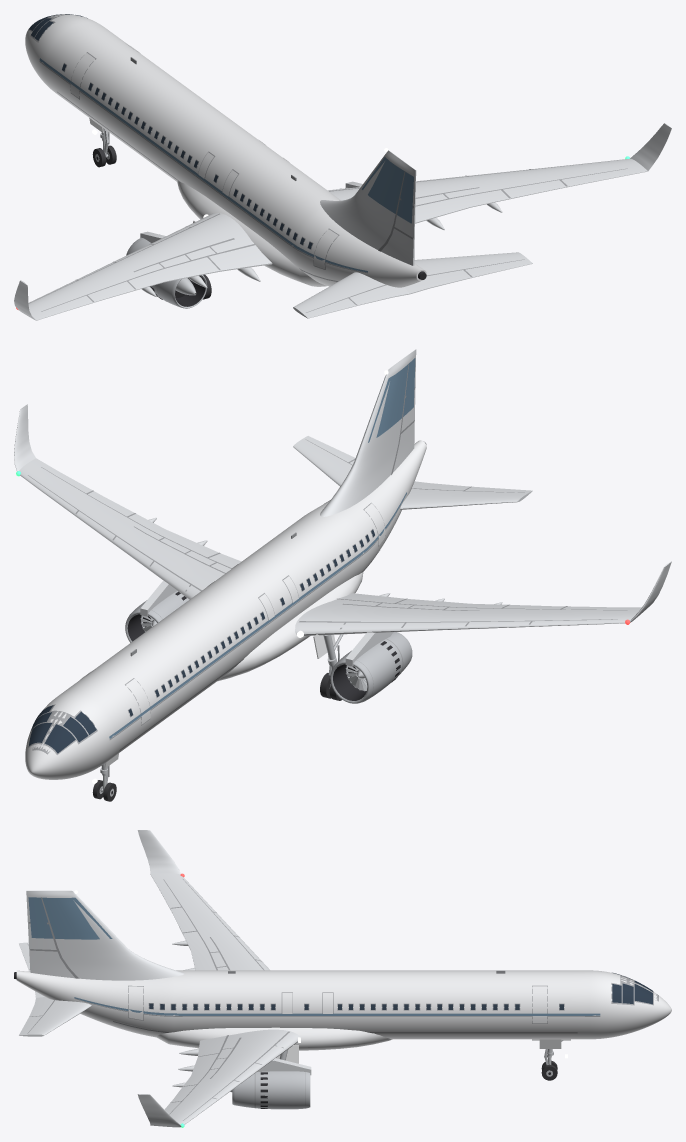
Rendered from airliner.glb.
The picture shows the model from 3 angles, top to bottom: view 1: azimuth 30°, elevation 25°; view 2: azimuth 150°, elevation 25°; view 3: azimuth 270°, elevation 25°; orthographic projection. The views are drawn at different scales.
Visible parts, largest first — view 1: Aircraft; view 2: Aircraft; view 3: Aircraft.
Boxes of the visible parts, x1,y1,x2,y2 form: Aircraft: (14,14,671,320); Aircraft: (14,349,671,801); Aircraft: (14,830,671,1127).
Size of the model in its own units: 35.84 by 11.83 by 37.66.
